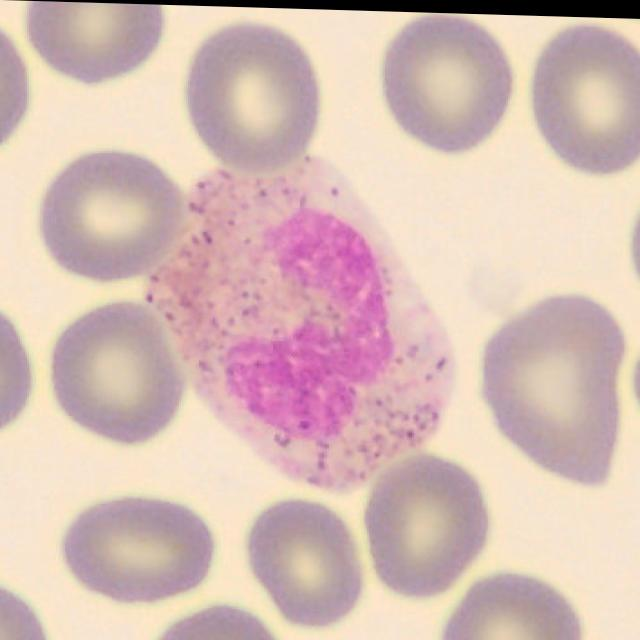Neutrofilo segmentado: (146, 155, 457, 492)
